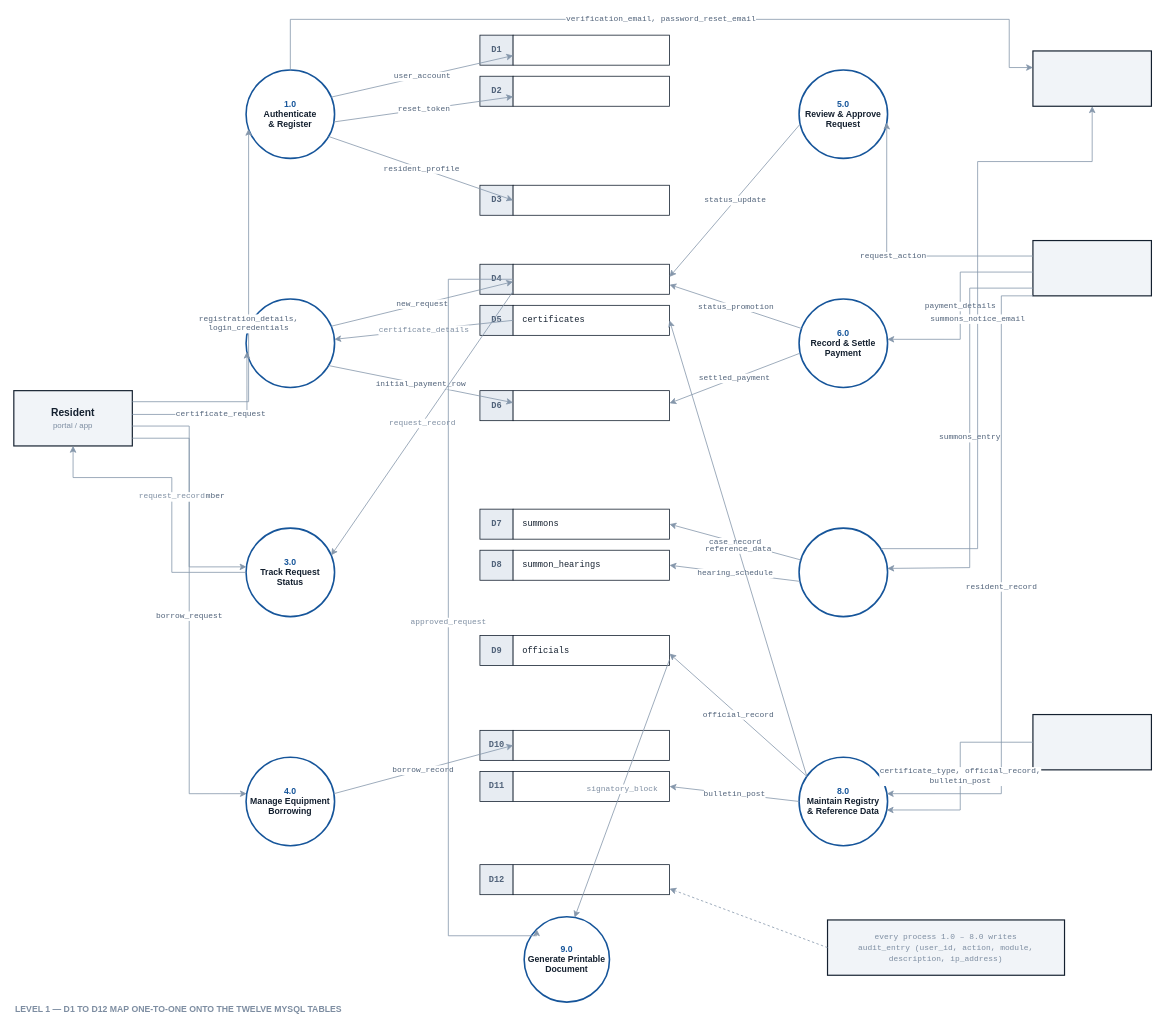
Some shapes in this 1166 by 1029 pixel diagram are drawn without their labels. The centre of each missing label's shape, as x and y in pixels:
"2.0 File Certificate Request" belongs at pixel 290 343.
"7.0 Manage Summons (KP Case)" belongs at pixel 843 572.
"activity_logs" belongs at pixel 591 879.
"Admin barangay IT" belongs at pixel 1092 742.
"borrow_requests" belongs at pixel 591 745.
"bulletin_announcements" belongs at pixel 591 786.
"Mail Server SMTP" belongs at pixel 1092 78.
"password_resets" belongs at pixel 591 90.
"payments" belongs at pixel 591 405.
"requests" belongs at pixel 591 278.
"residents" belongs at pixel 591 199.
"Staff secretary" belongs at pixel 1092 268.
"users" belongs at pixel 591 49.
